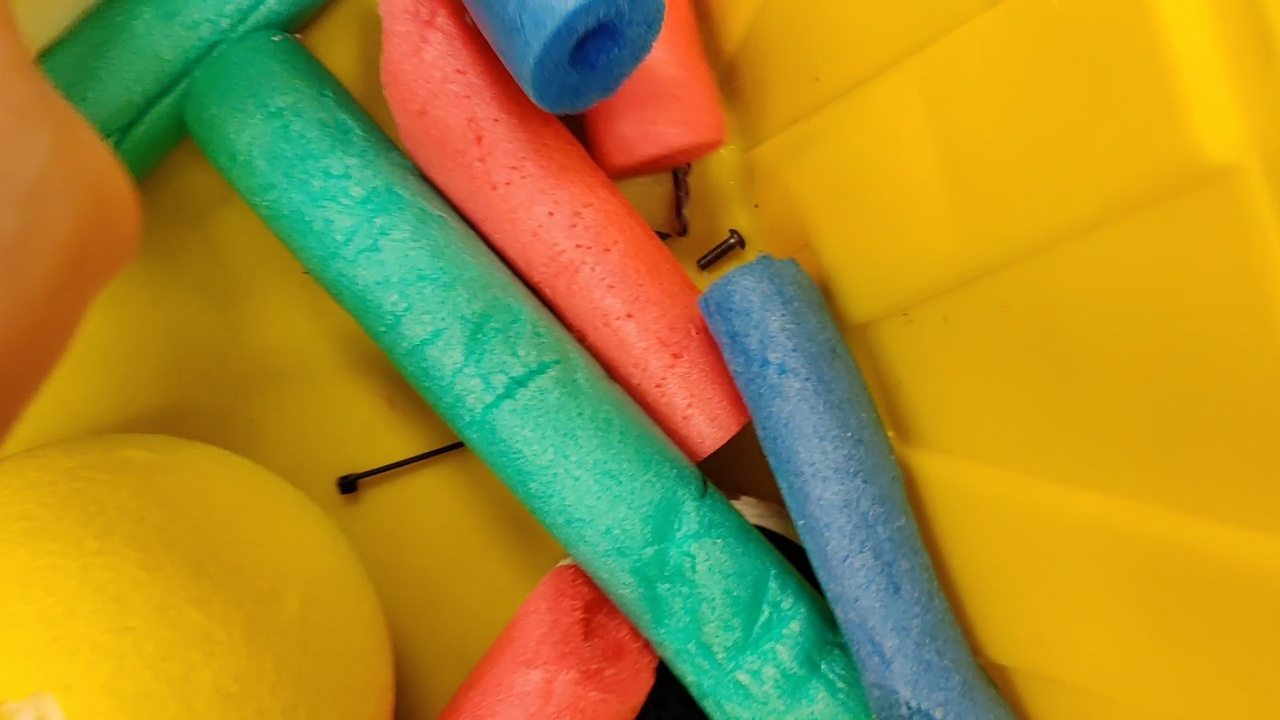Ball: (2, 433, 394, 720)
